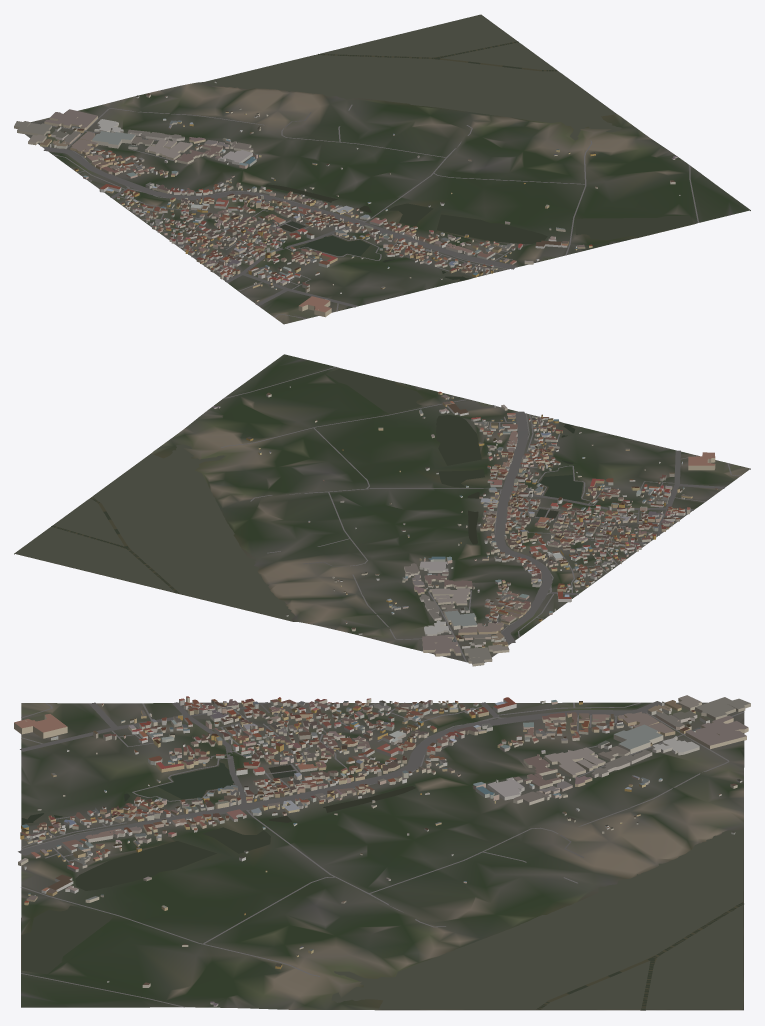
3 views of the same model, one above another, from view 1: azimuth 30°, elevation 25°; view 2: azimuth 150°, elevation 25°; view 3: azimuth 270°, elevation 25° (orthographic). The views are drawn at different scales.
Parts seen in each view (by area): view 1: ground, water, buildings, roads; view 2: ground, water, buildings, roads; view 3: ground, water, buildings, roads.
Part boxes in pixels (bbox=[...]): ground: bbox=[25, 14, 750, 324]; water: bbox=[203, 14, 693, 280]; buildings: bbox=[14, 80, 680, 317]; roads: bbox=[31, 104, 698, 318]; ground: bbox=[14, 354, 750, 665]; water: bbox=[15, 368, 585, 620]; buildings: bbox=[212, 386, 717, 666]; roads: bbox=[221, 367, 741, 662]; ground: bbox=[21, 702, 744, 1010]; water: bbox=[21, 762, 743, 1010]; buildings: bbox=[14, 695, 750, 1006]; roads: bbox=[18, 701, 744, 1007].
Size of the model in its own units: 1423 by 23.82 by 1429.
